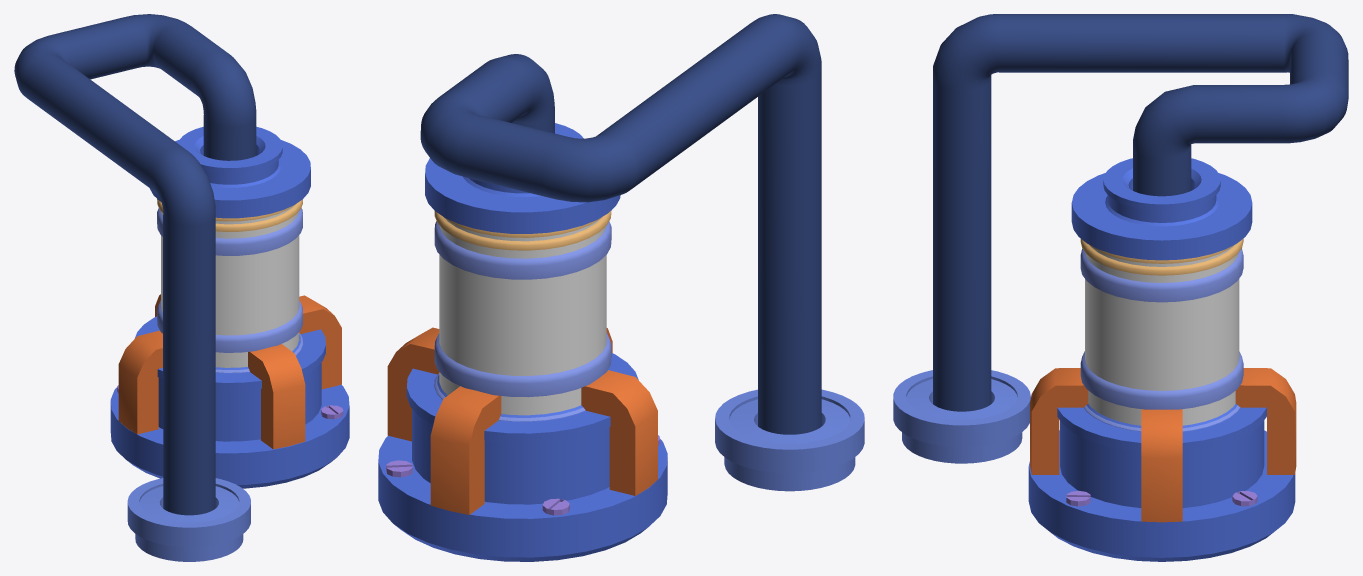
File: neftianka.fbx
3 renders of one model, left to right at view 1: azimuth 30°, elevation 25°; view 2: azimuth 150°, elevation 25°; view 3: azimuth 270°, elevation 25°, orthographic. The views are drawn at different scales.
Visible parts, largest first — view 1: Окружность; view 2: Окружность; view 3: Окружность.
Boxes of the visible parts, x1=… form: Окружность: x1=14, y1=14, x2=349, y2=561; Окружность: x1=378, y1=14, x2=864, y2=561; Окружность: x1=893, y1=14, x2=1348, y2=561.
Bounding box in the file's own units: 277 × 349 × 341.
